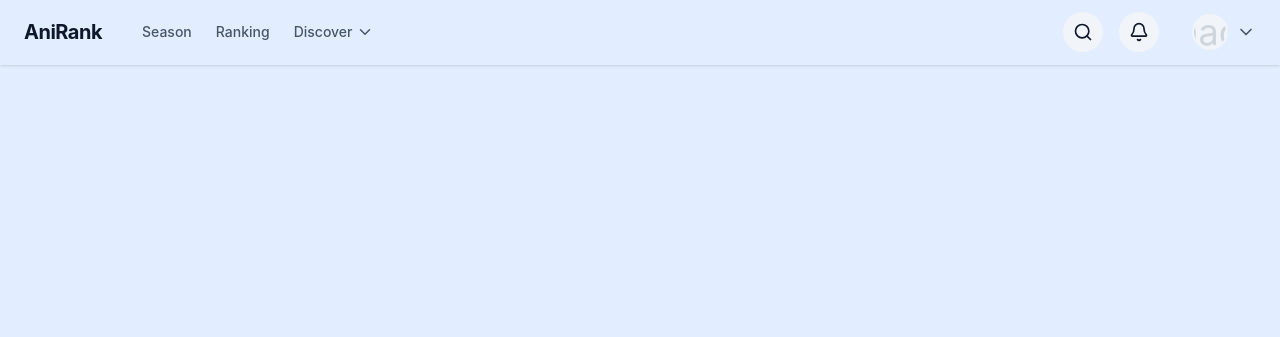
NavbarMaster Component › should render User Profile dropdown when authenticated
The image size is (1280, 337).
Note: Click to open dropdown
Click the button with aria-label "toggle user dropdown menu" at [1224, 32], box [1192,14,1256,50]
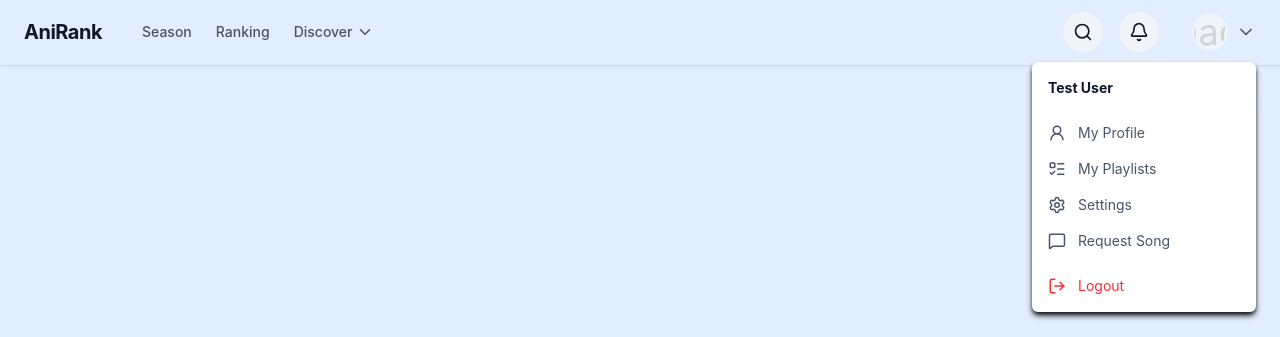
Result: the text "Test User" is shown at [1048,79,1113,96]
Result: the button "Logout" is shown at [1032,268,1256,304]
